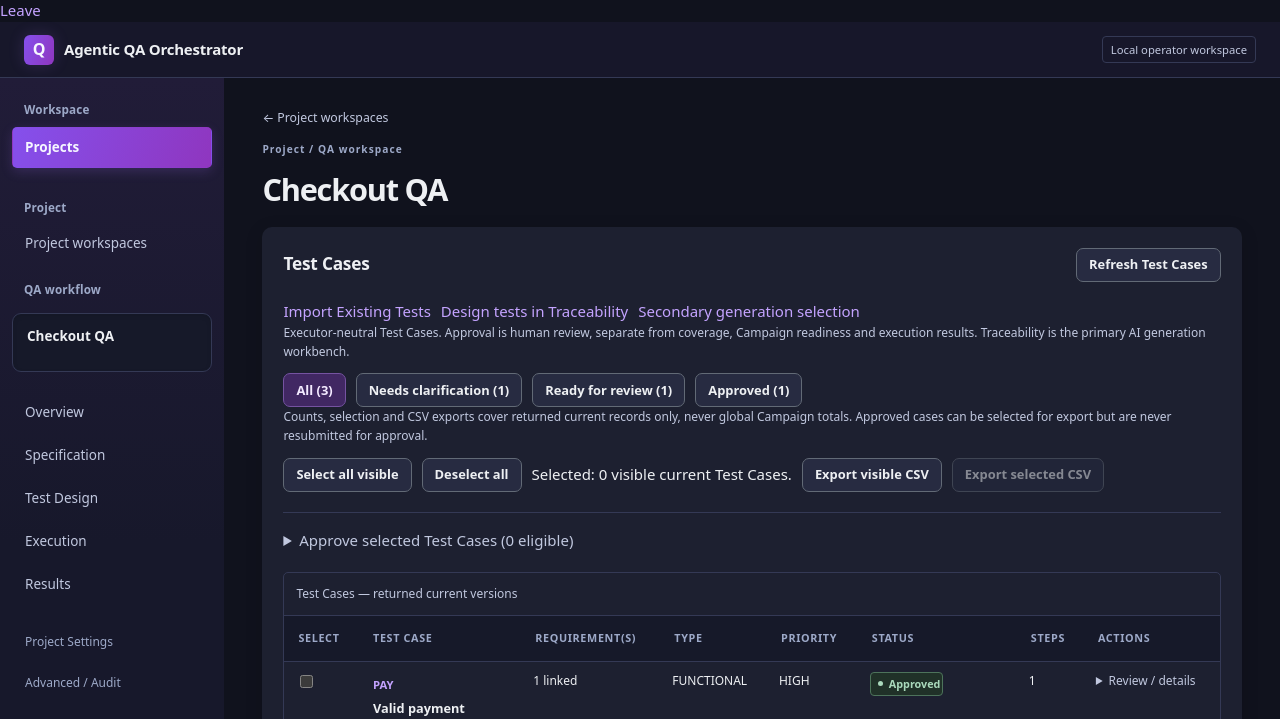
Test: Test Cases current workspace › uses compact local identity, honest filters and exact visible selection
The width and height of the screenshot is (1280, 719).
Expected: the heading "Test Cases" is shown, [283,251,370,278]
Expected: the text "Counts, selection and CSV exports cover returned current" is shown, [283,408,1172,444]
Click the button "Ready for review (1)" at (609, 390), box [532,373,685,407]
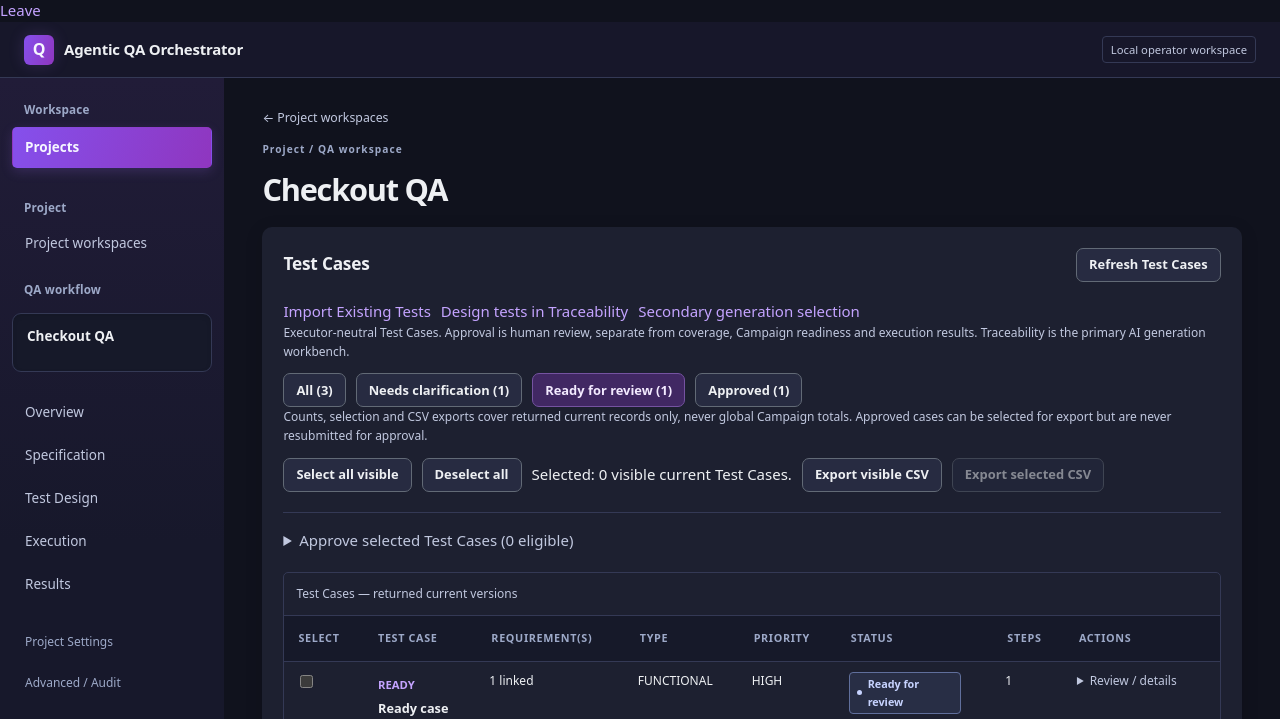
Expected: the number of checkboxes is 1, [300,675,313,688]
Click the button "Select all visible" at (348, 474), box [283,458,412,492]
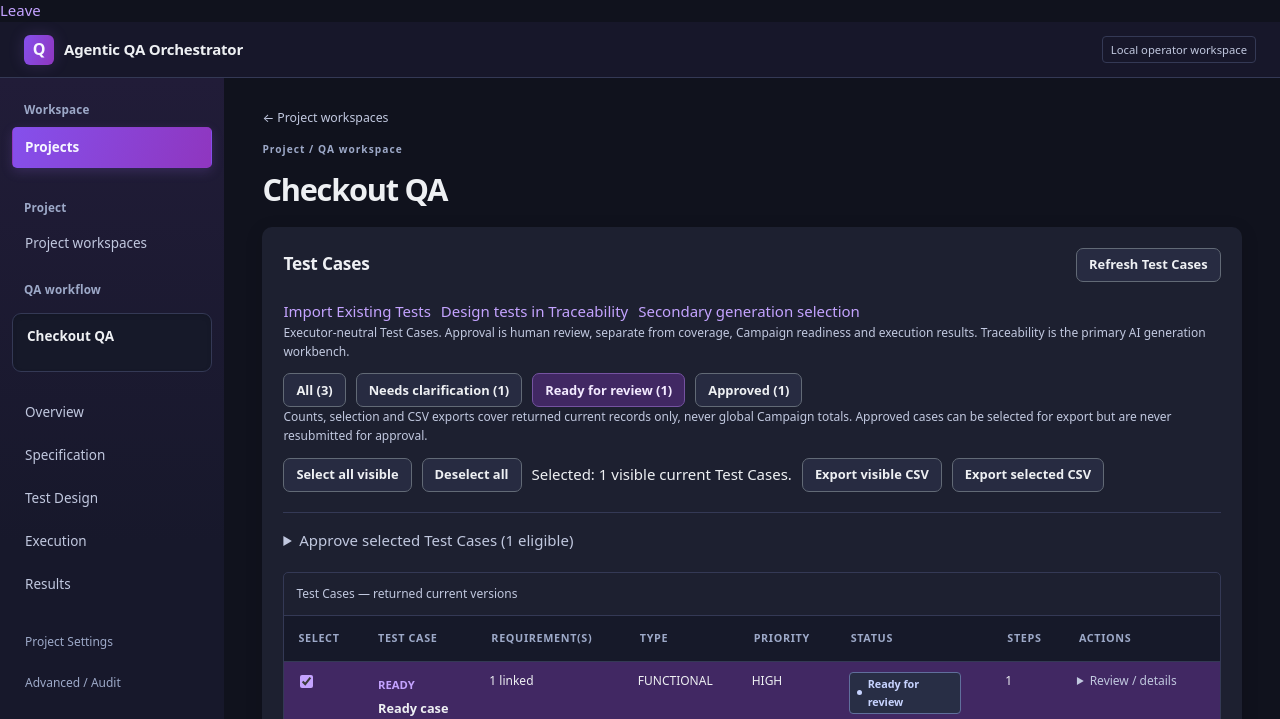
Result: the checkbox is checked at [300,675,313,688]
Click the button "Deselect all" at (472, 474), box [422,458,522,492]
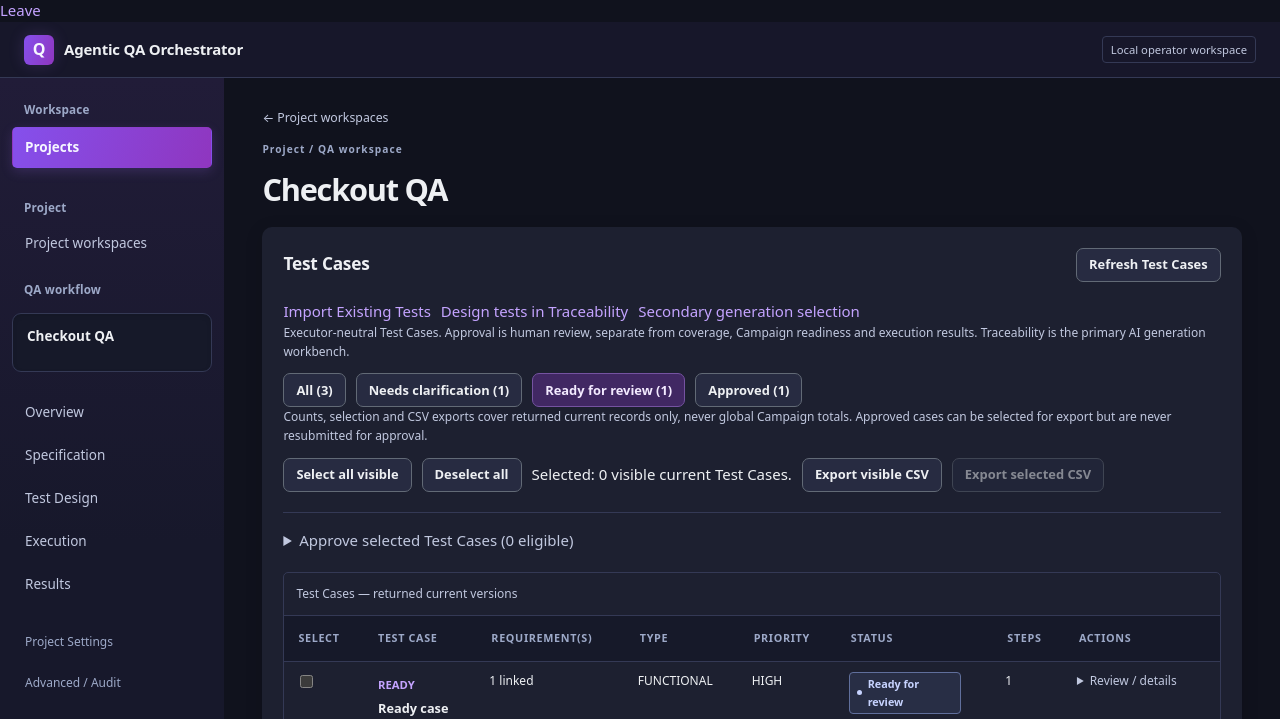
Result: the checkbox is not checked at [300,675,313,688]
Click the button "Select all visible" at (348, 474), box [283,458,412,492]
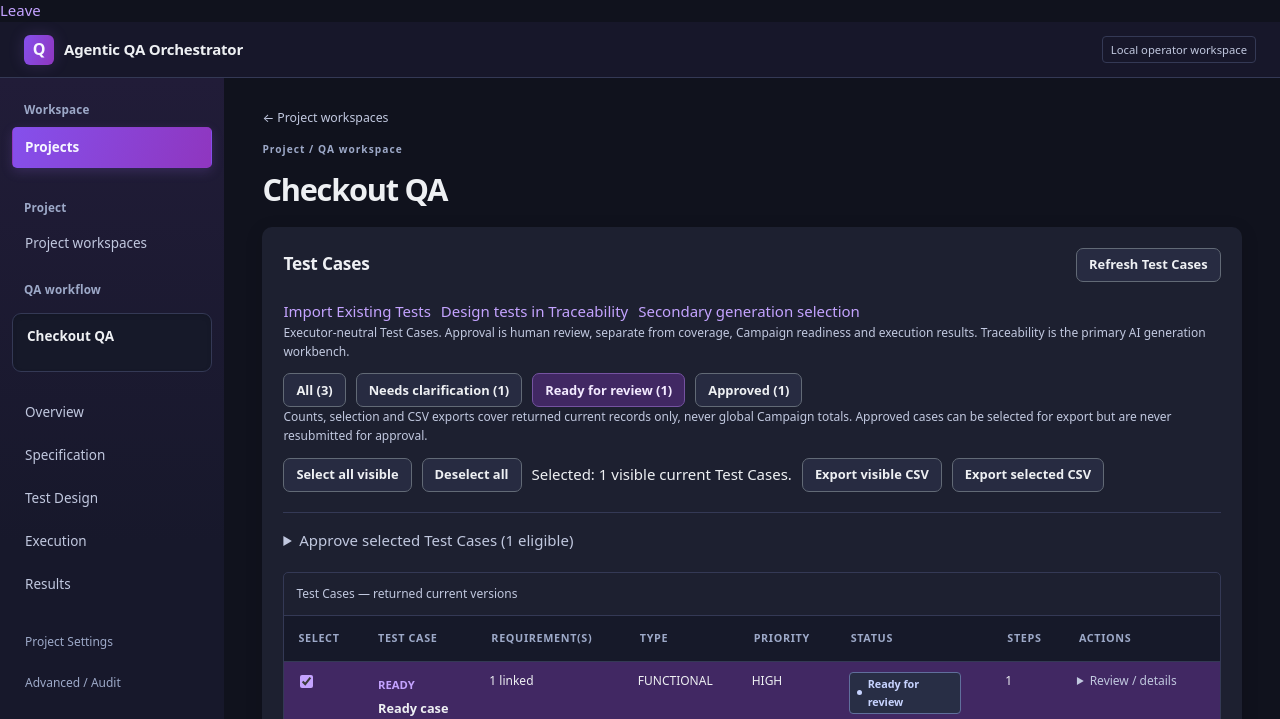
Click the button "Approved (1)" at (749, 390), box [695,373,802,407]
(page scrolled)
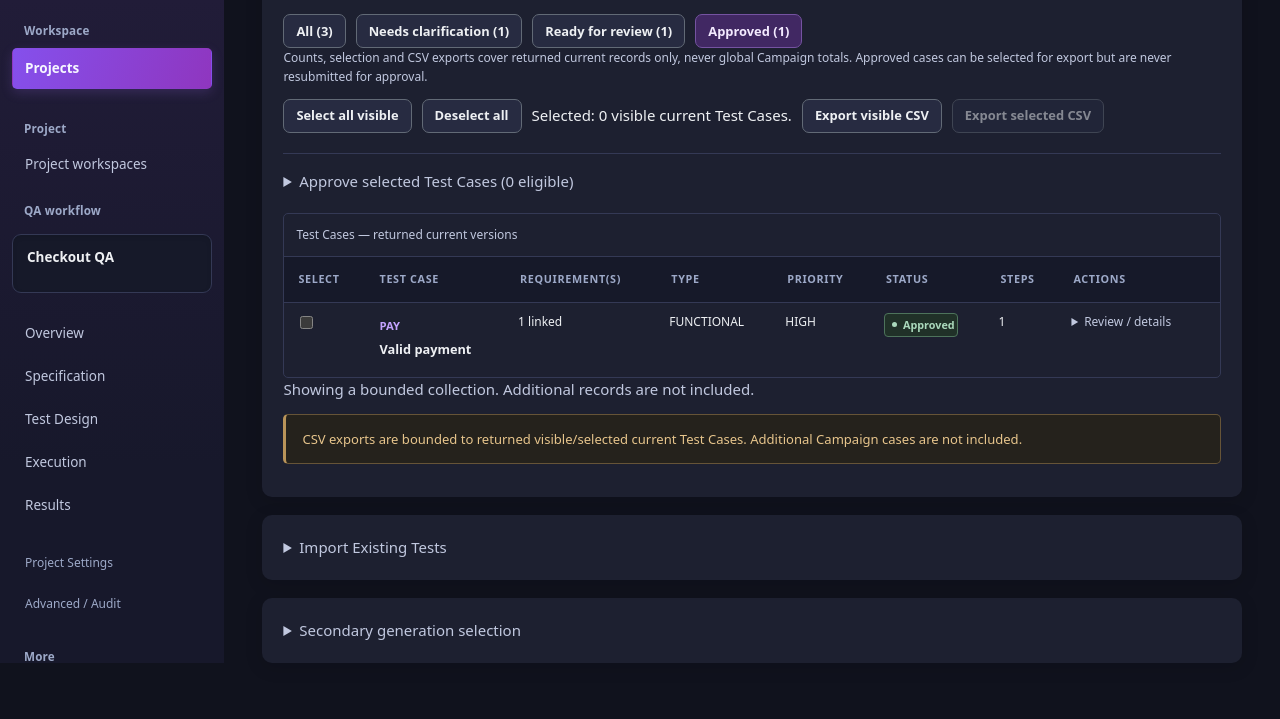
Expected: the text "Additional Campaign cases are not included" is shown, [302,430,1022,448]
Result: the checkbox is not checked at [300,316,313,329]
Result: the button "Export selected CSV" is disabled at [952,98,1104,132]
